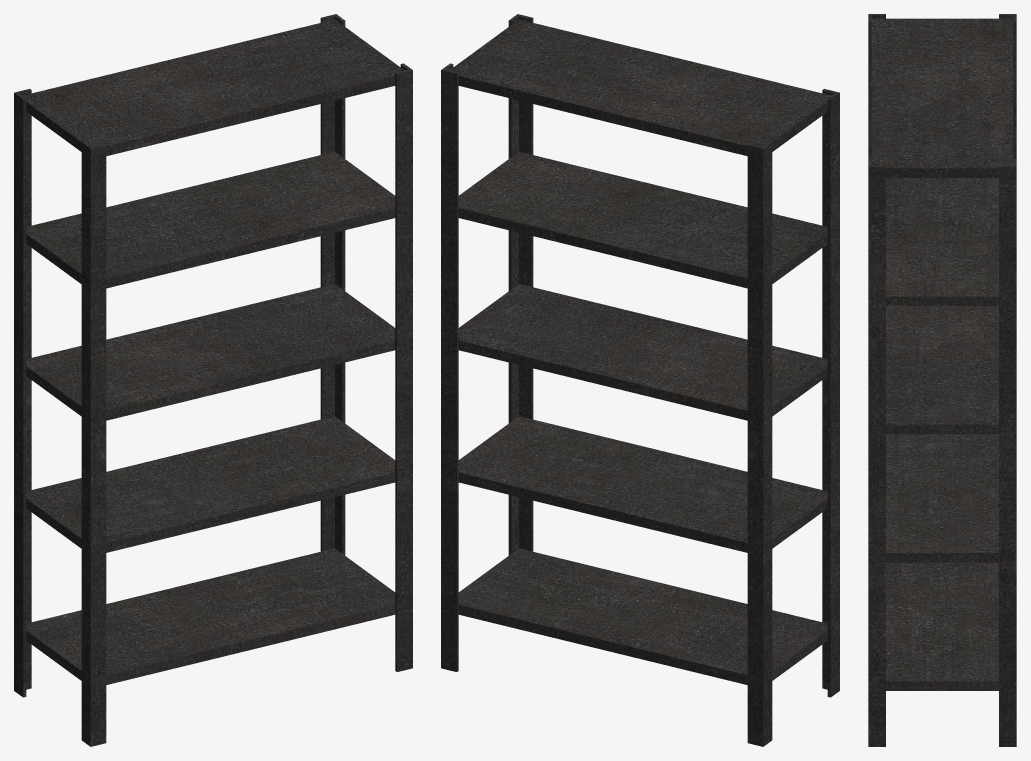
The model's file is shelf_mx_5_1.glb.
The picture shows the model from 3 angles, left to right: view 1: azimuth 30°, elevation 25°; view 2: azimuth 150°, elevation 25°; view 3: azimuth 270°, elevation 25°; orthographic projection. The views are drawn at different scales.
Visible parts, largest first — view 1: shelf_mx_5_1; view 2: shelf_mx_5_1; view 3: shelf_mx_5_1.
Part boxes in pixels (left/top/right/bottom): shelf_mx_5_1: left=14, top=14, right=412, bottom=746; shelf_mx_5_1: left=441, top=14, right=839, bottom=746; shelf_mx_5_1: left=868, top=14, right=1016, bottom=746.
Size of the model in its own units: 1.02 by 1.81 by 0.42.
Materials: 1 (1 with a texture image).
